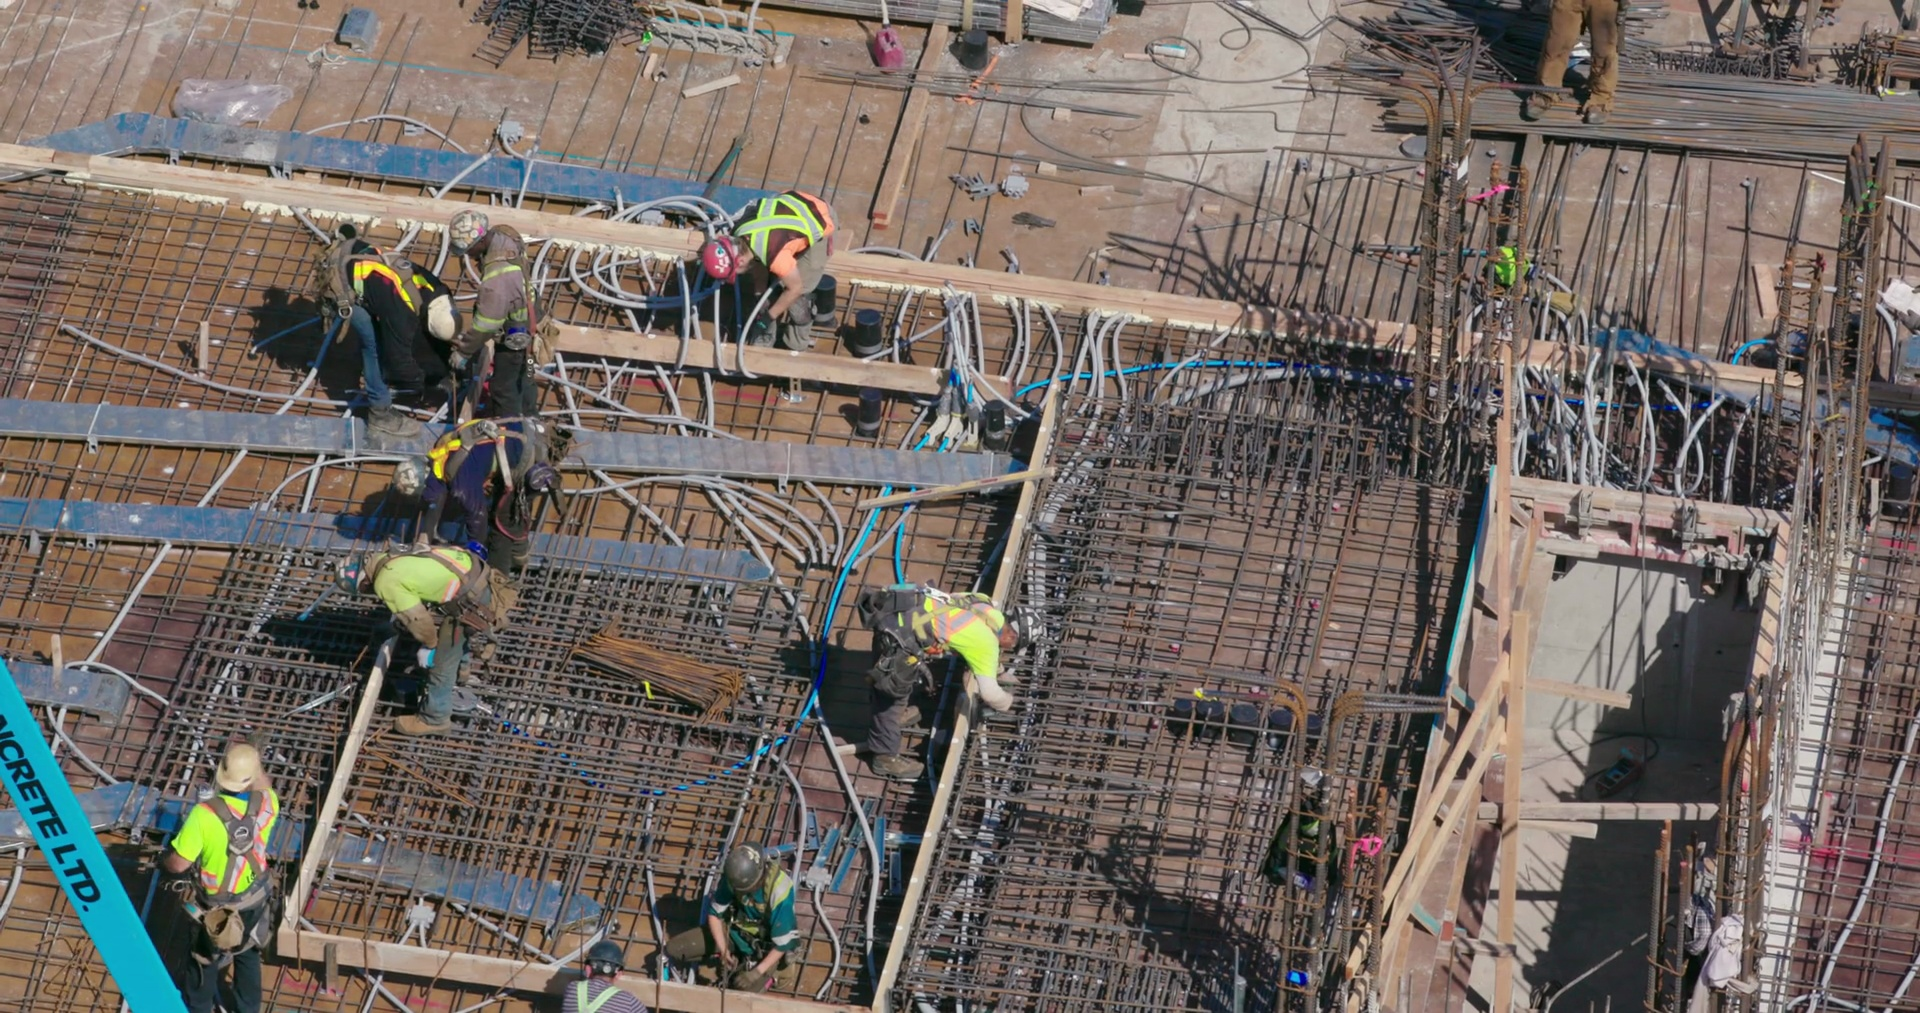blue: (444, 209, 490, 258), (335, 553, 375, 599), (392, 458, 430, 501)
red: (703, 237, 749, 282)
white: (215, 743, 259, 798), (422, 295, 462, 341)
